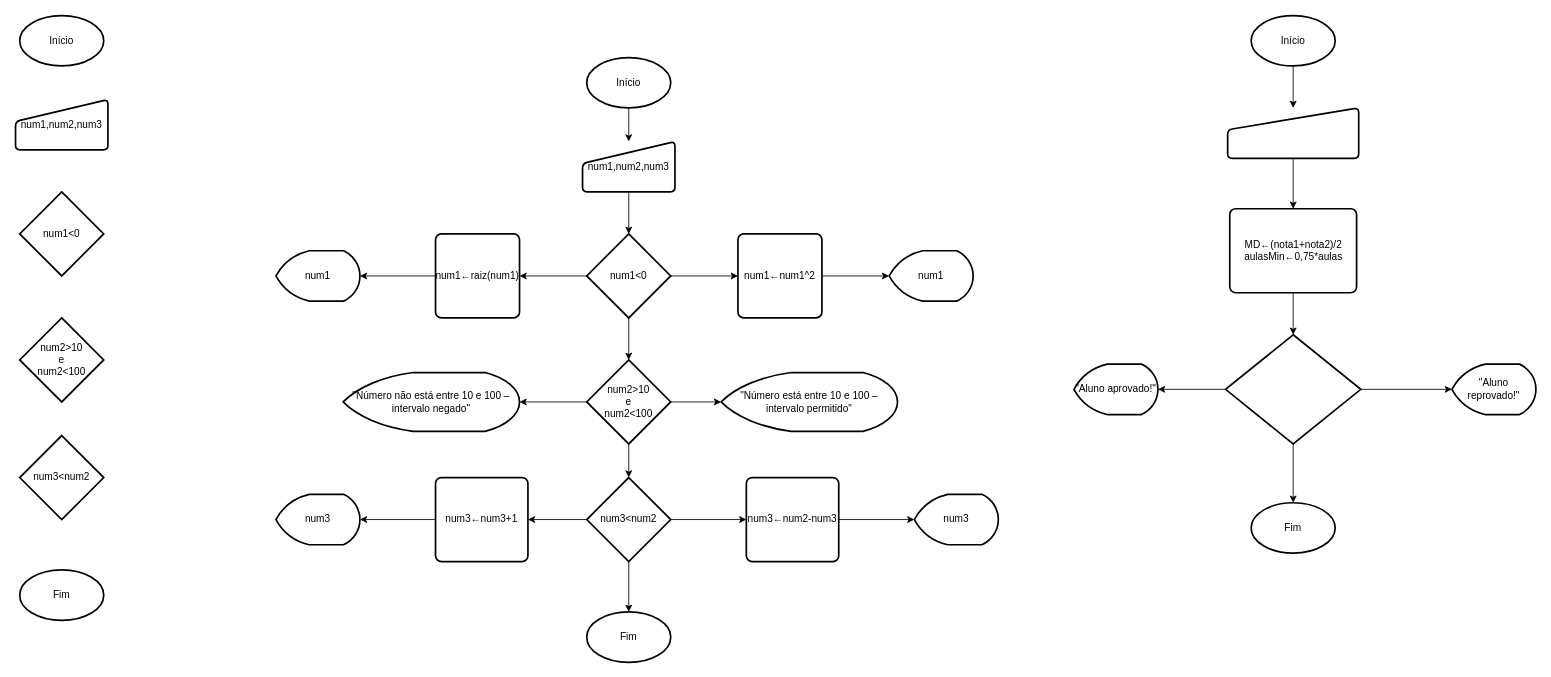
Some shapes in this 1551 by 677 pixel diagram are drawn without their labels. The shapes that lost their labels are listed below. From the top down, each one's centre as x and y in pixels, then its label:
point (1292, 133): nota1,nota2,aulas,aulasP
point (1292, 388): MD>=6 & aulasP>=aulasMin
